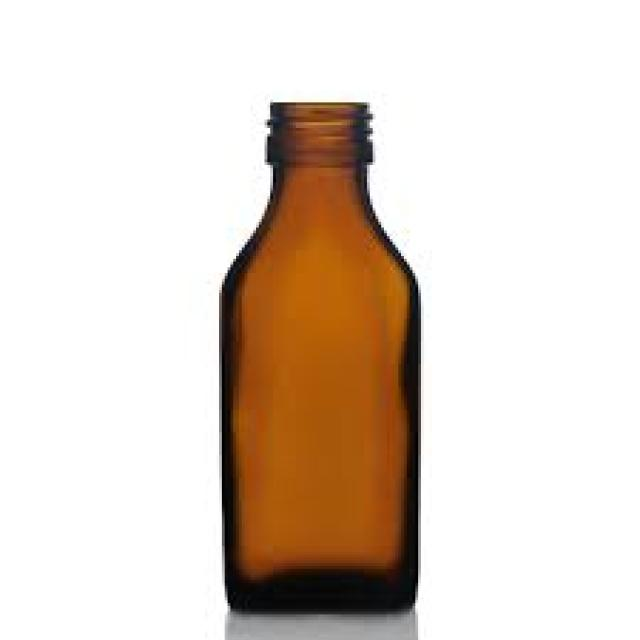glass: (222, 102, 415, 609)
